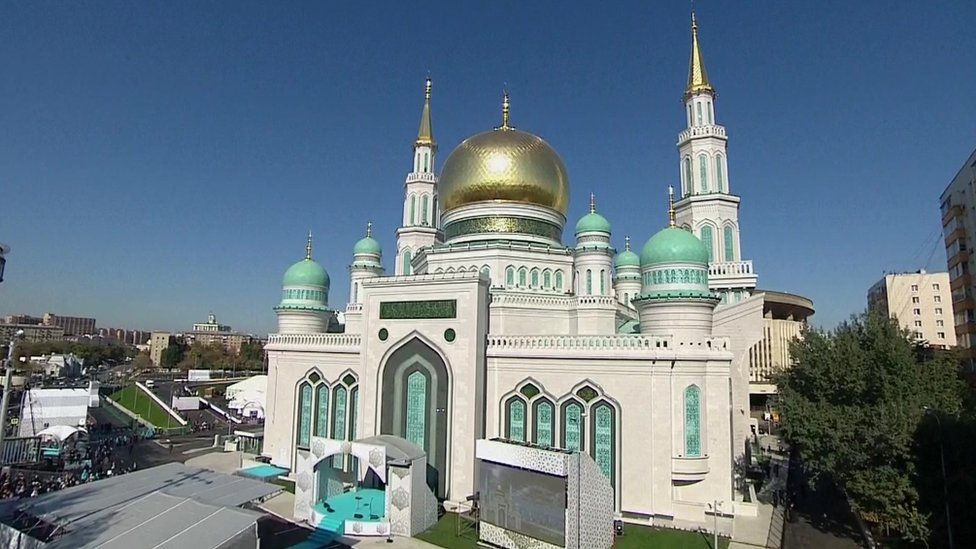Mosque: (259, 35, 826, 513)
